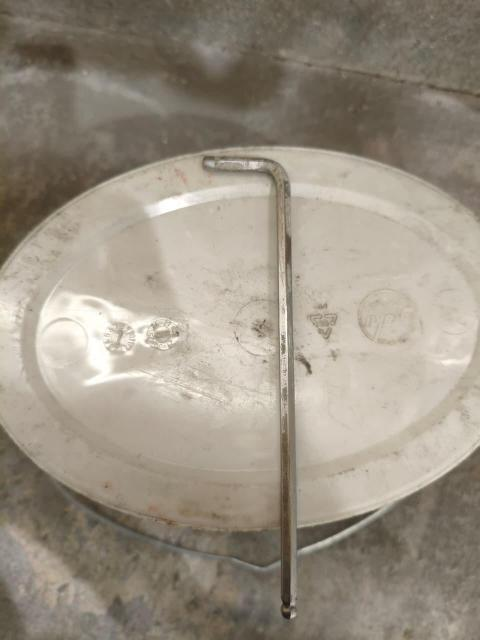Metal: (207, 150, 312, 620)
